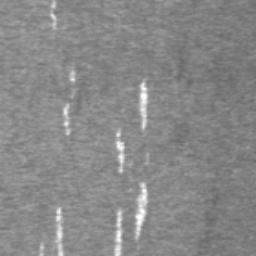White rust: (135, 182, 147, 240), (55, 207, 64, 256), (116, 130, 125, 173), (140, 82, 148, 130), (115, 210, 123, 256), (62, 103, 70, 134), (50, 13, 57, 30), (69, 71, 76, 82)
